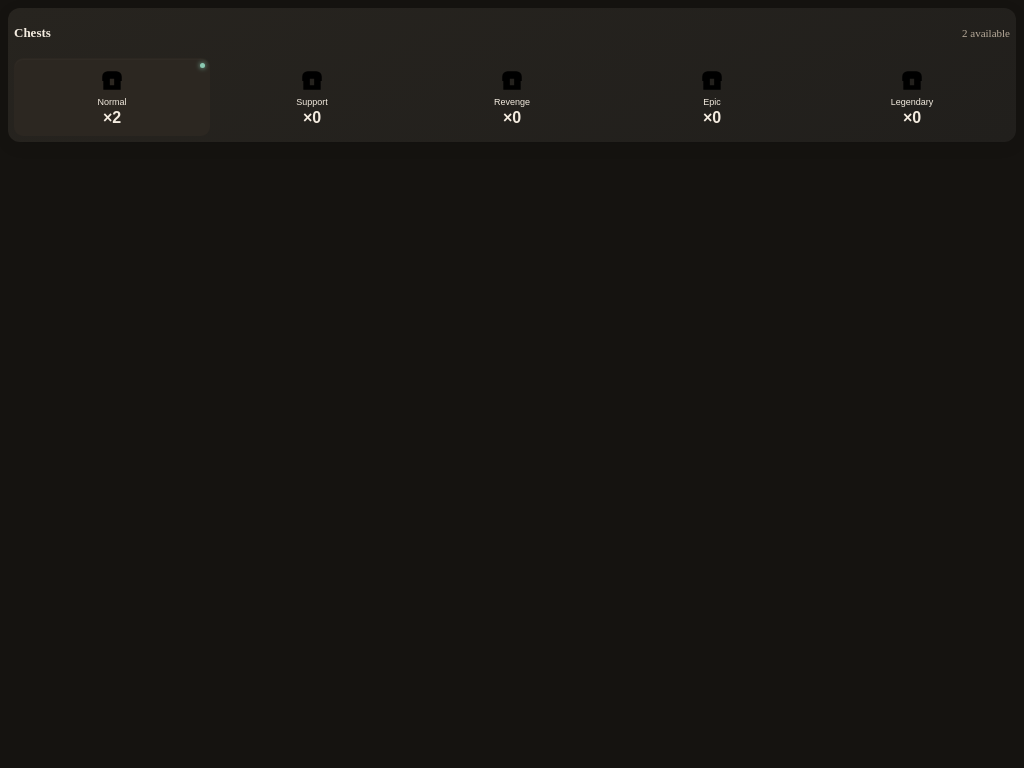
normal inventory combines turret chests and preserves already opened offers
Click the button named "Normal chest, 2 available" at (112, 97), box [14,58,210,136]
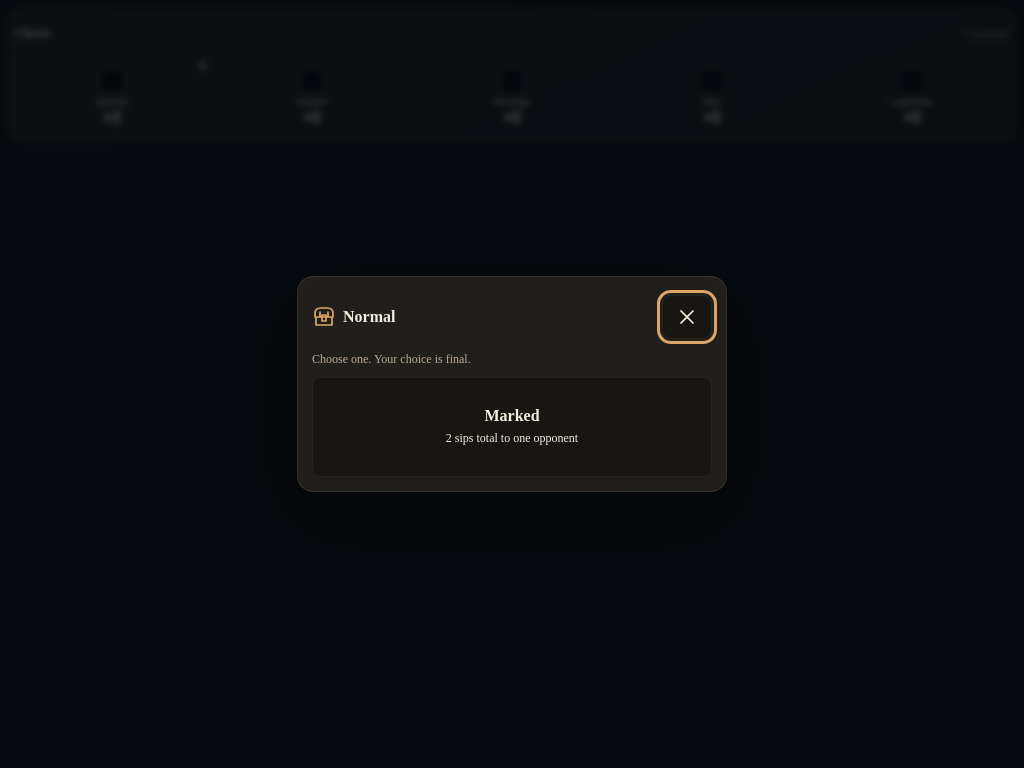
Check: the heading "Normal" is shown, box [312,304,395,328]
Check: the button "Marked 2 sips total to one opponent" is shown, box [312,377,712,477]
